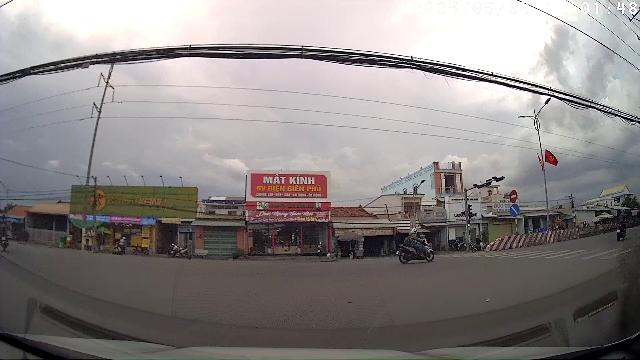102-cam-di-nguoc-chieu: (509, 189, 518, 203)
302a-huong-phai-di-vong-chuong-ngai-vat-1: (509, 204, 520, 216)
